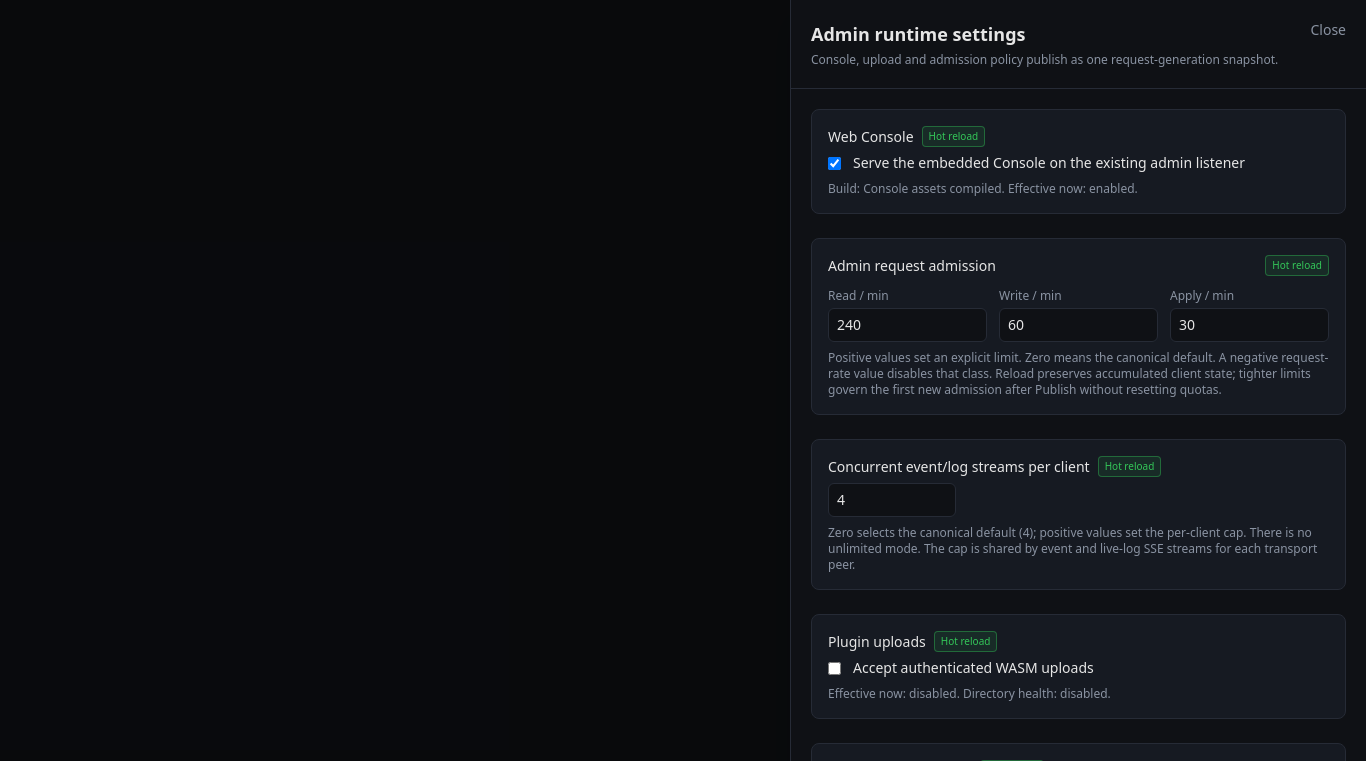
AdminRuntimeSettingsDrawer HR-07A limits › warns on SSE tightening without treating existing sessions as drain candidates
Expected: the text "Admin request admission" is shown, [828,256,996,276]
Replace the text in the 4th number field with "2": (892, 500) [828,483,956,517]
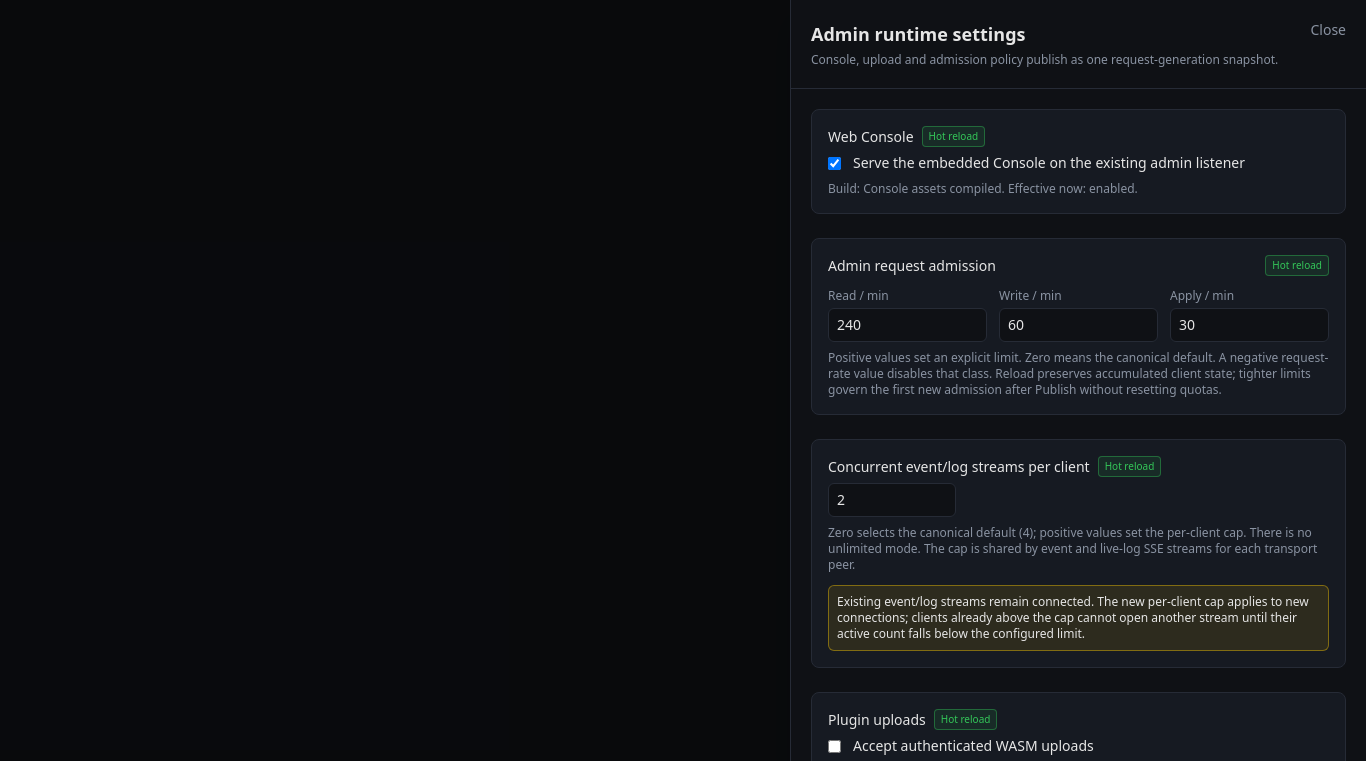
Expected: the text "cannot open another stream until their active count falls below" is shown, [837,593,1309,642]
